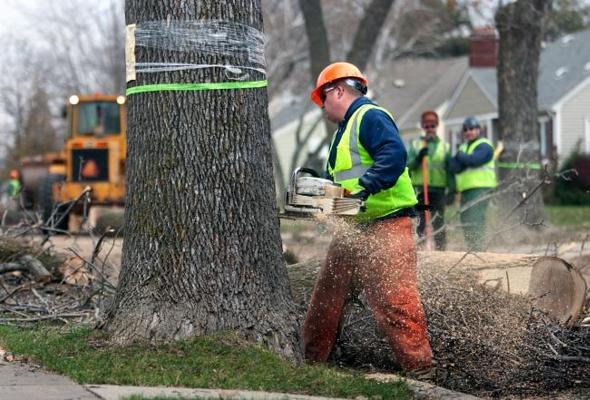person: (298, 63, 439, 384)
